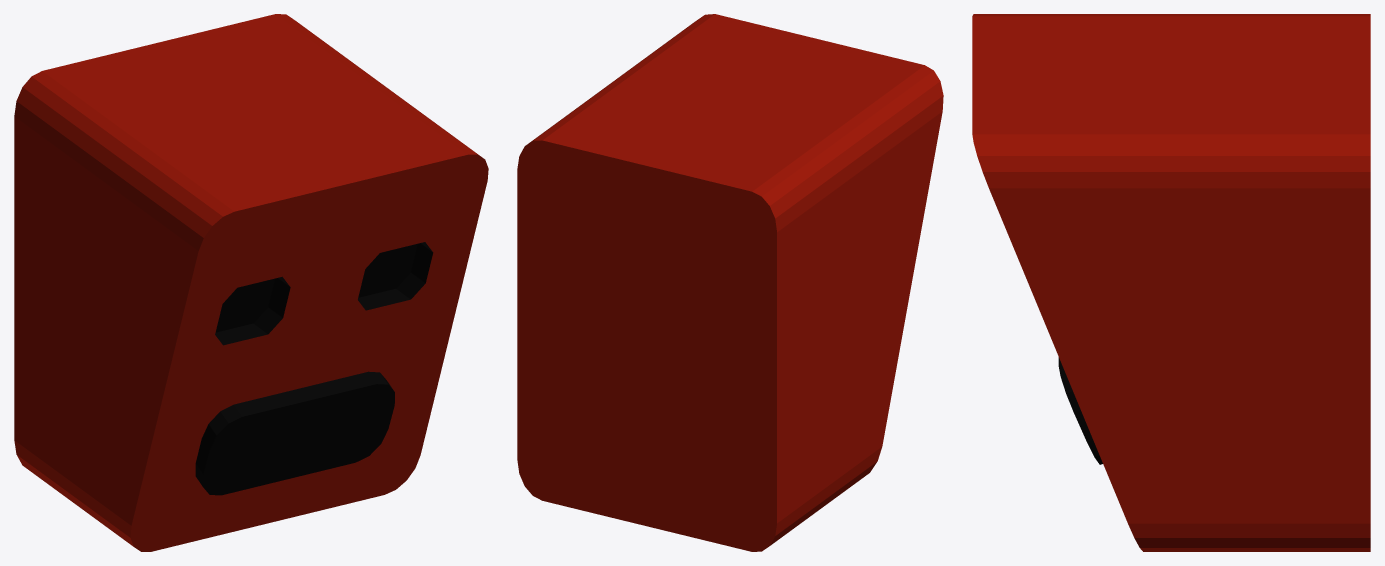
File: Chargingport3.fbx
3 renders of one model, left to right at view 1: azimuth 30°, elevation 25°; view 2: azimuth 150°, elevation 25°; view 3: azimuth 270°, elevation 25°, orthographic. The views are drawn at different scales.
Visible parts, largest first — view 1: Cube.012; view 2: Cube.012; view 3: Cube.012.
Part boxes in pixels (x1,y1,x2,y2): Cube.012: (14, 14, 488, 551); Cube.012: (517, 14, 943, 551); Cube.012: (972, 14, 1370, 551).
Size of the model in its own units: 174 by 230 by 200.
